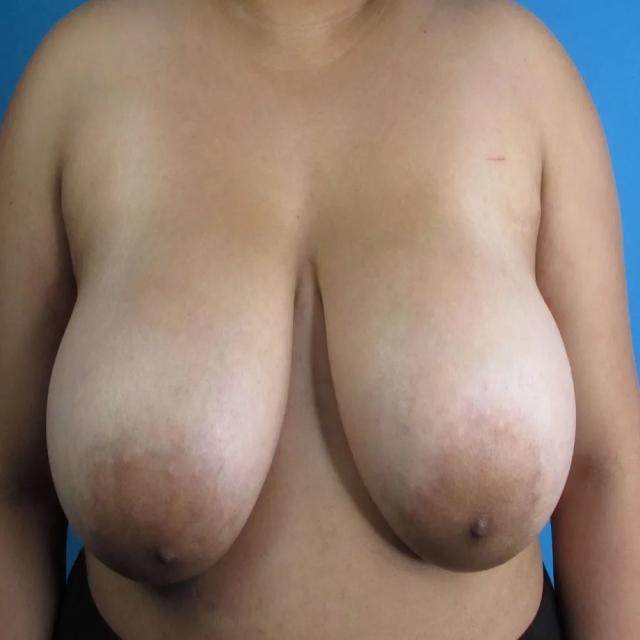Seno ileso: (38, 195, 306, 607), (312, 197, 584, 588)
